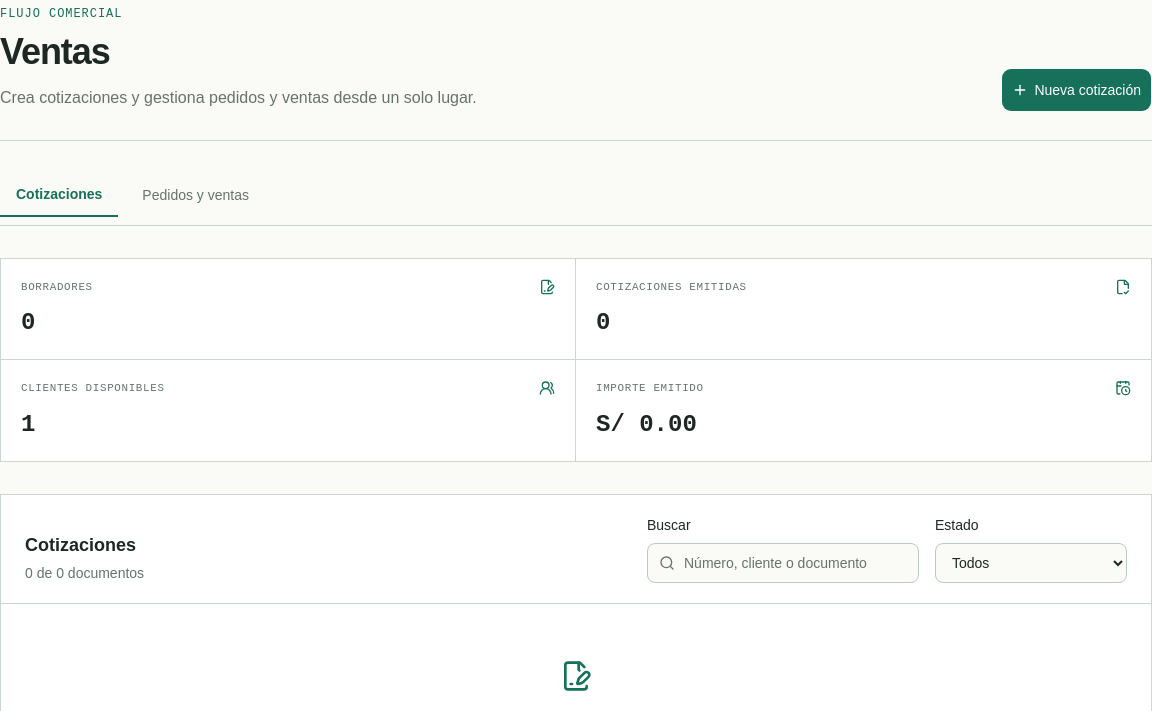
Test case: VentasPage › separa cotizaciones y pedidos y ventas sin salir del módulo Ventas
What coordinates should you click on to do the following:
click the link "Pedidos y ventas"
I would click on:
 (196, 195)
Its box is [142,187,249,203].
(page scrolled)
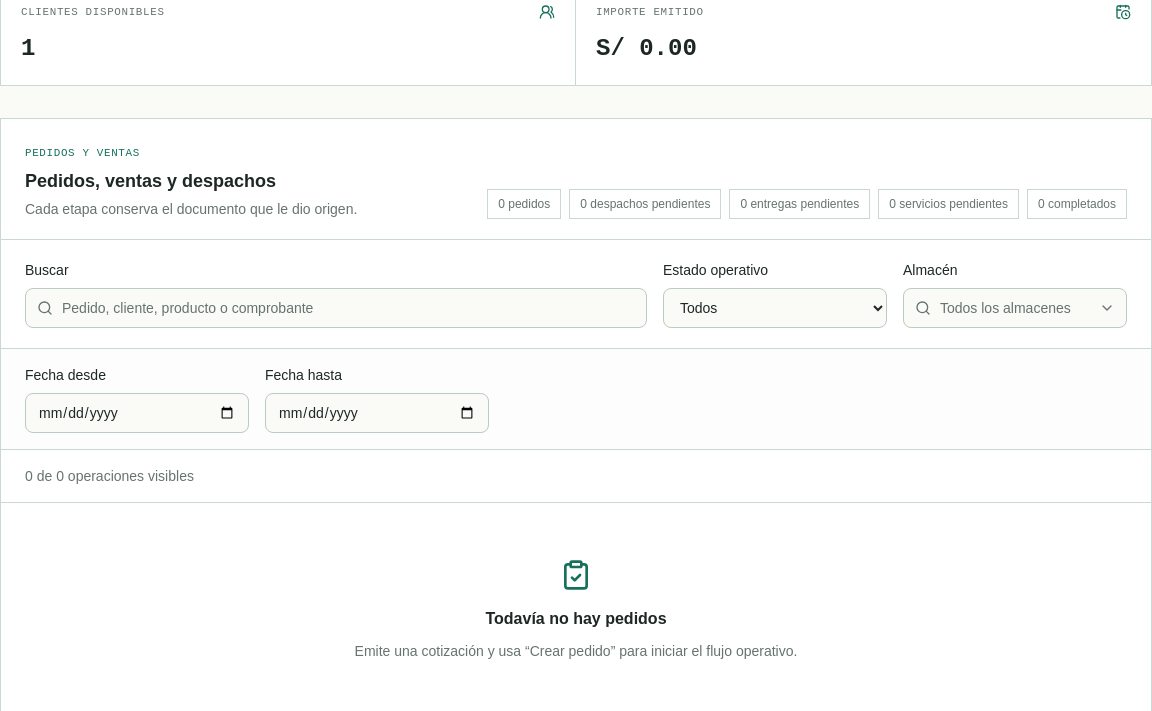
Now the heading "Pedidos, ventas y despachos" is shown, box [25,171,276,191]
Now the dropdown labelled "Estado operativo" is shown, box [663,288,887,328]
Now the heading "Todavía no hay pedidos" is shown, box [486,610,667,627]
